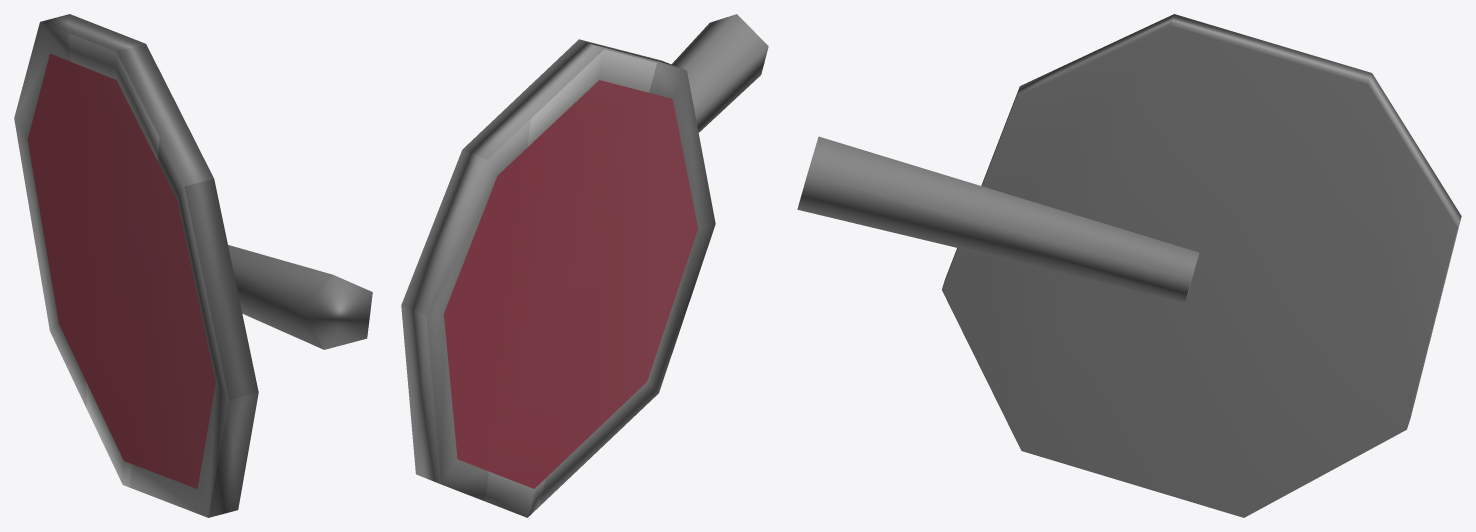
File: trafficSign_trafficSign.glb
3 views of the same model, side by side, from view 1: azimuth 30°, elevation 25°; view 2: azimuth 150°, elevation 25°; view 3: azimuth 270°, elevation 25° (orthographic). The views are drawn at different scales.
Parts seen in each view (by area): view 1: trafficSign:trafficSign; view 2: trafficSign:trafficSign; view 3: trafficSign:trafficSign.
Boxes of the visible parts, x1=… form: trafficSign:trafficSign: x1=14, y1=14, x2=372, y2=517; trafficSign:trafficSign: x1=401, y1=14, x2=768, y2=517; trafficSign:trafficSign: x1=797, y1=14, x2=1461, y2=517.
Size of the model in its own units: 0.073 by 0.3237 by 0.4112.
